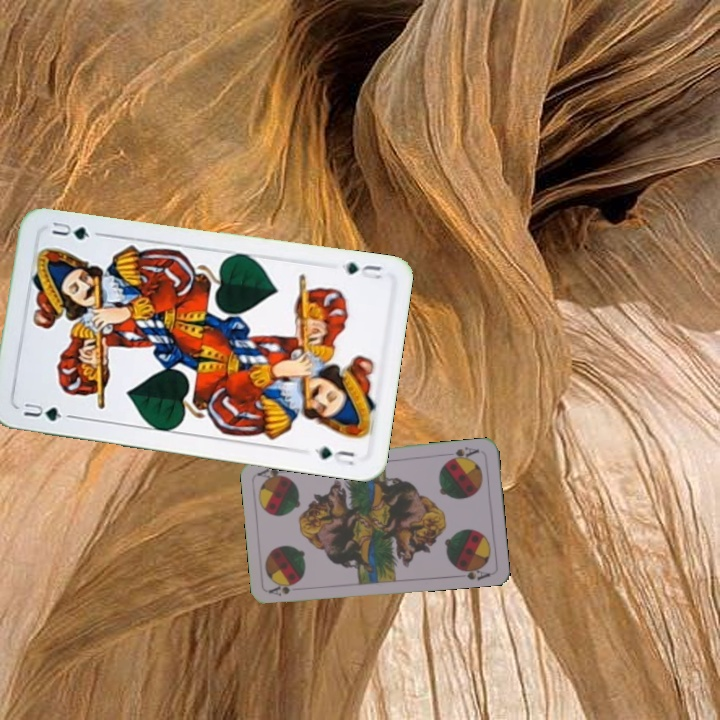GU: (337, 258, 385, 282), (20, 399, 64, 424)
SA: (265, 579, 306, 599), (443, 443, 482, 464)
